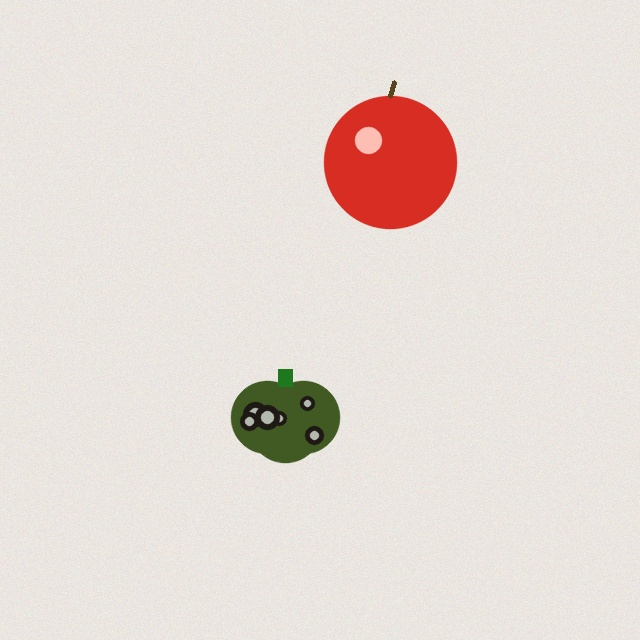Fresh apple: (324, 82, 456, 228)
Rotten bell pepper: (231, 369, 339, 462)
